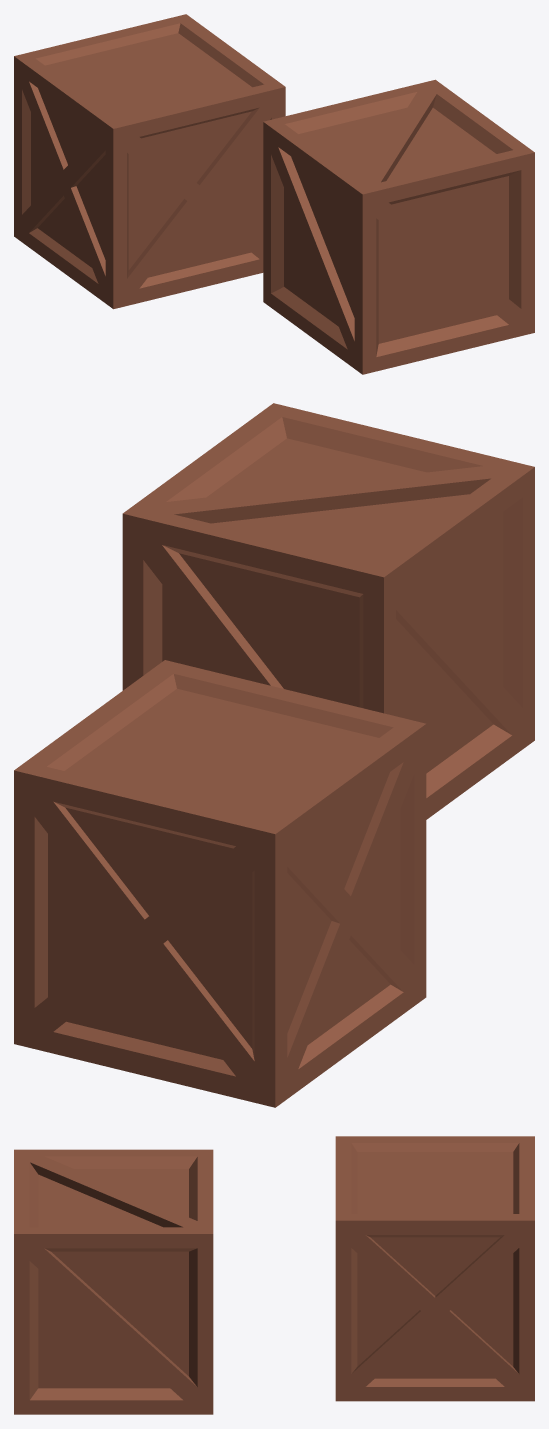
Rendered from Caixas[1].fbx.
The picture shows the model from 3 angles, top to bottom: view 1: azimuth 30°, elevation 25°; view 2: azimuth 150°, elevation 25°; view 3: azimuth 270°, elevation 25°; orthographic projection. The views are drawn at different scales.
Visible parts, largest first — view 1: Cube.002, Cube.001; view 2: Cube.001, Cube.002; view 3: Cube.002, Cube.001.
Boxes of the visible parts, x1,y1,x2,y2 form: Cube.002: (263, 79, 534, 374); Cube.001: (14, 14, 285, 309); Cube.001: (14, 660, 426, 1107); Cube.002: (122, 403, 534, 819); Cube.002: (14, 1149, 213, 1414); Cube.001: (335, 1136, 534, 1401).
Size of the model in its own units: 303 by 233 by 522.
